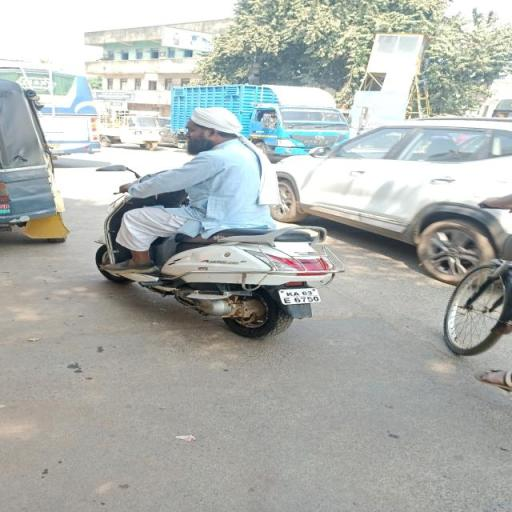bike: (94, 104, 351, 340)
numberplate: (274, 284, 324, 306)
withouthelmet: (188, 107, 234, 151)
